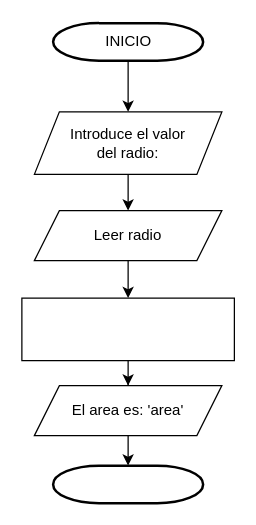
Some shapes in this 256 by 525 pixel diagram are drawn without their labels. The box of each missing label's shape, as (x1, y1, x2, y2) in pixels:
area = 3.14 * radio * radio: (21, 297, 234, 361)
end: (51, 464, 204, 504)
